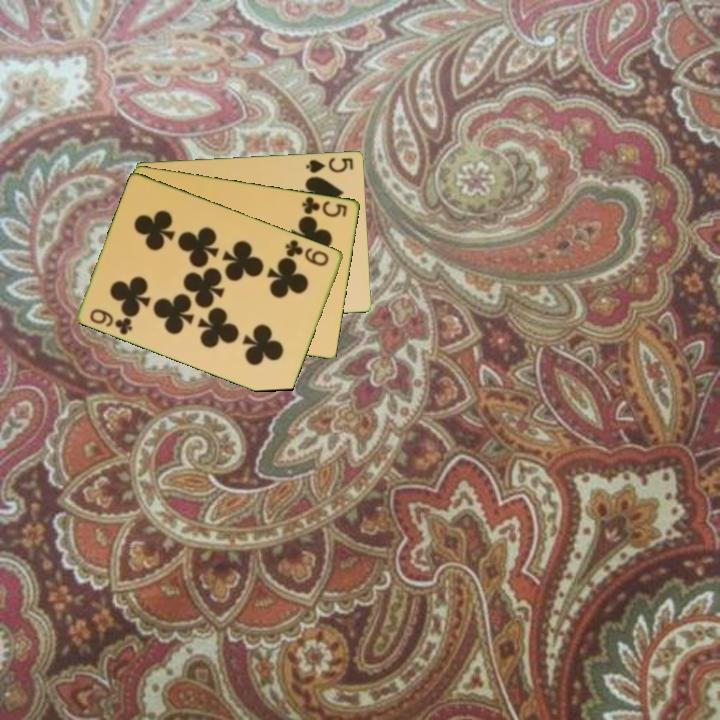5c: (299, 193, 350, 220)
5s: (303, 154, 356, 175)
9c: (282, 236, 332, 269), (86, 305, 136, 338)
